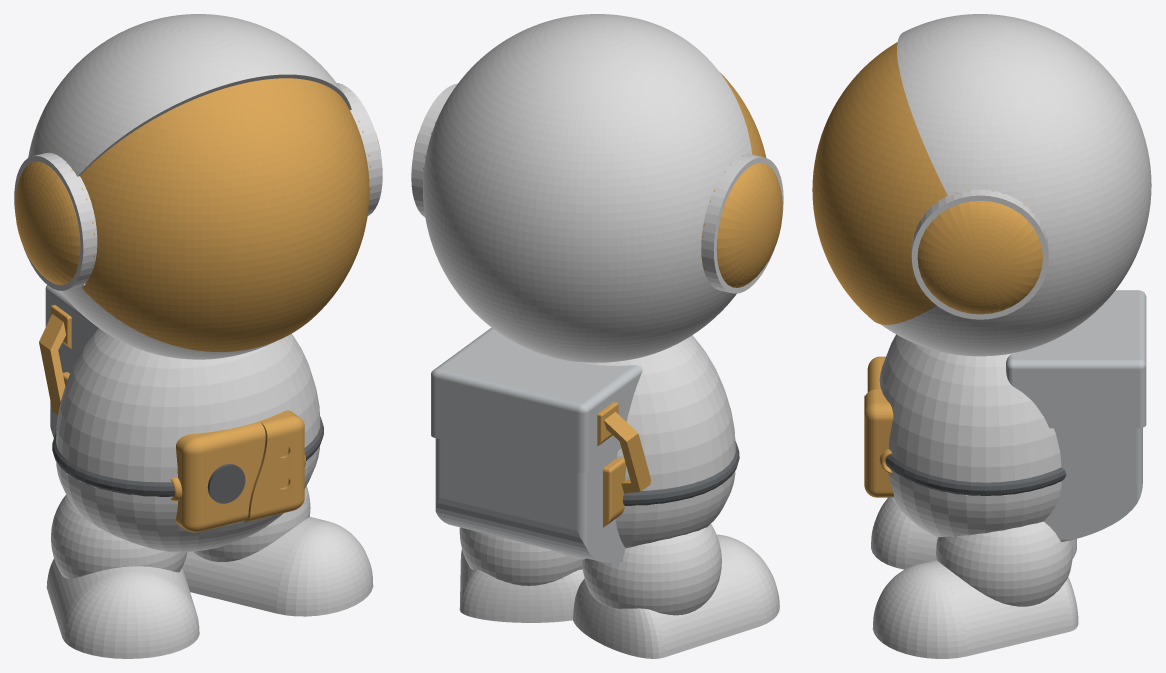
Rendered from astronaut.glb.
The picture shows the model from 3 angles, left to right: view 1: azimuth 30°, elevation 25°; view 2: azimuth 150°, elevation 25°; view 3: azimuth 270°, elevation 25°; orthographic projection.
Parts seen in each view (by area): view 1: Mesh_Mesh_head_geo.001_lambert2SG.001; view 2: Mesh_Mesh_head_geo.001_lambert2SG.001; view 3: Mesh_Mesh_head_geo.001_lambert2SG.001.
Boxes of the visible parts, box(x1,y1,x2,y2) form: Mesh_Mesh_head_geo.001_lambert2SG.001: box(14, 14, 382, 658); Mesh_Mesh_head_geo.001_lambert2SG.001: box(411, 14, 783, 658); Mesh_Mesh_head_geo.001_lambert2SG.001: box(812, 14, 1151, 658).
Size of the model in its own units: 56 by 89.83 by 49.5.
